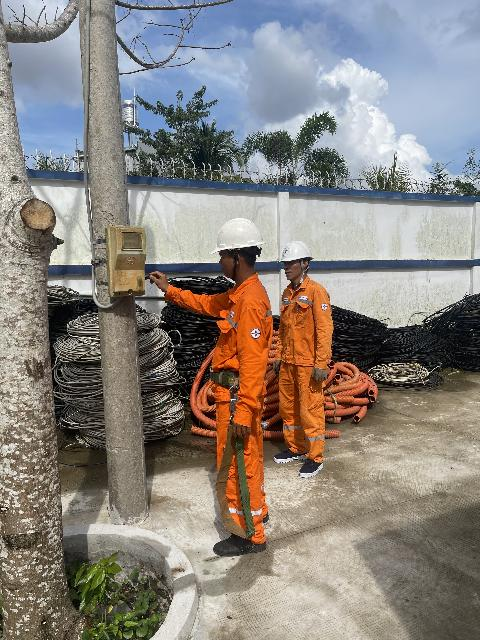gloves: (140, 265, 179, 294), (229, 413, 260, 443), (307, 364, 335, 386), (271, 356, 286, 375)
harness: (202, 360, 263, 394)
helmet: (204, 216, 267, 257), (268, 237, 326, 265)
shoes: (217, 529, 282, 560), (296, 459, 331, 481), (268, 448, 306, 465), (244, 513, 275, 525)
